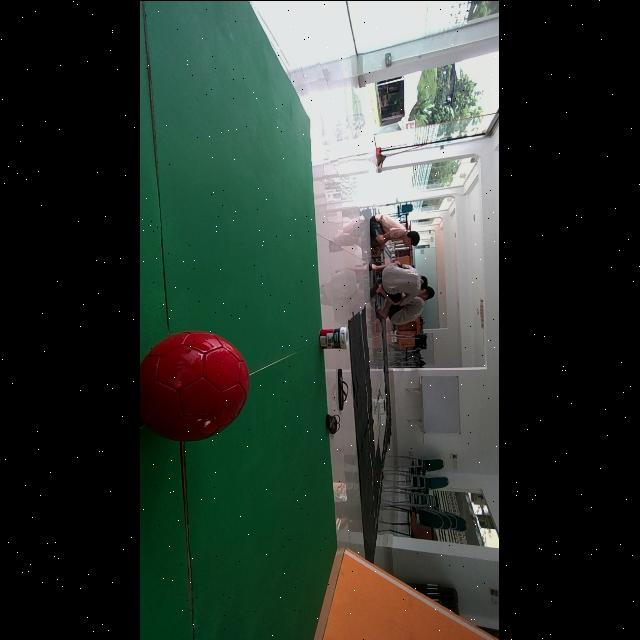R: (140, 331, 250, 440)
